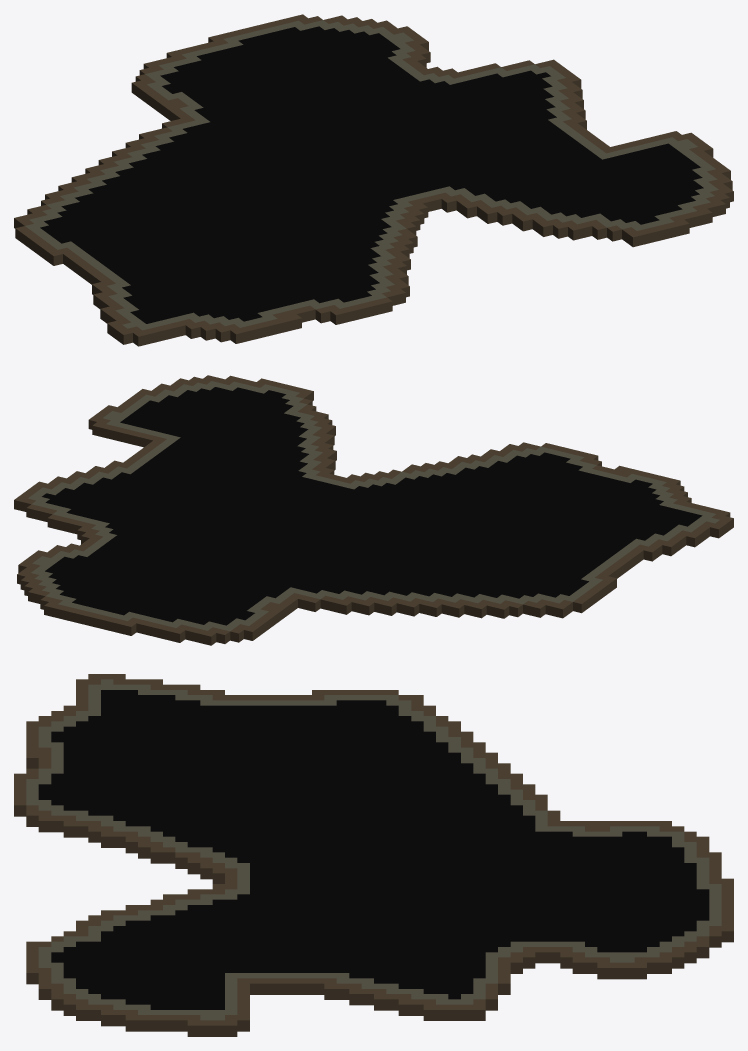
The model's file is ground_hole_3.obj.
The picture shows the model from 3 angles, top to bottom: view 1: azimuth 30°, elevation 25°; view 2: azimuth 150°, elevation 25°; view 3: azimuth 270°, elevation 25°; orthographic projection. The views are drawn at different scales.
Bounding box in the file's own units: 6.7 × 0.1 × 5.8.
Materials: 1 (1 with a texture image).
